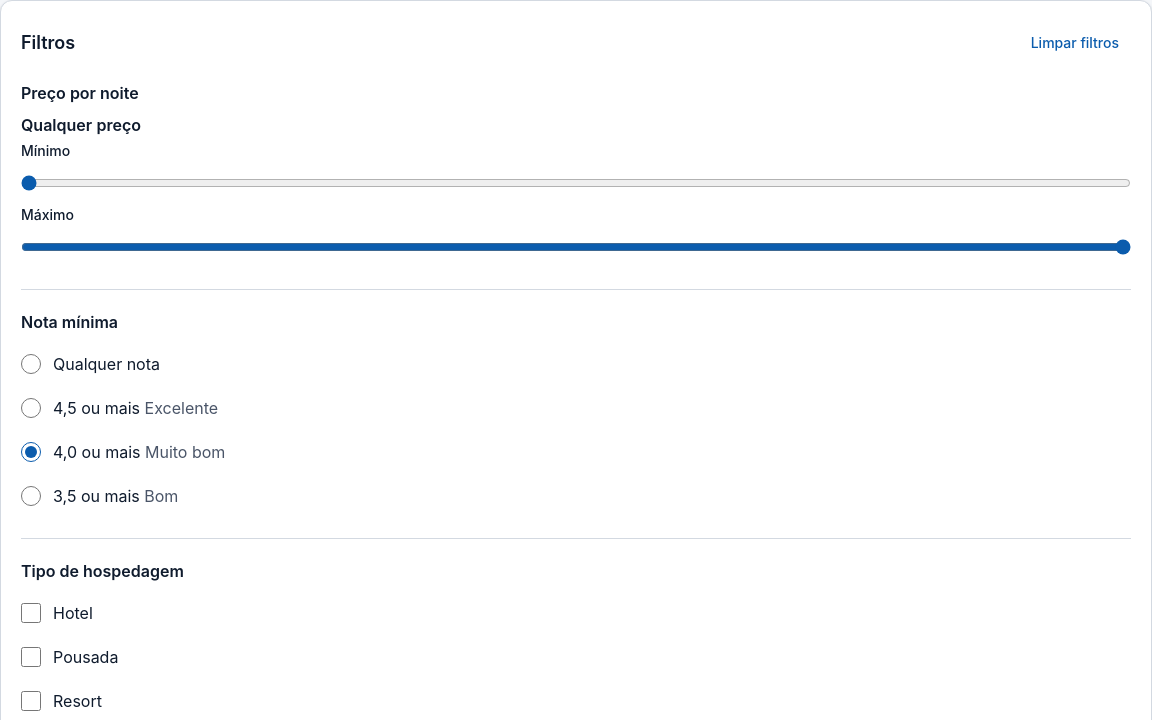
Scenario: FiltersPanel: limpar filtros (critério 16) › limpar durante o debounce do slider não regrava o preço
Set the slider labelled "Mínimo" to "500" at (211, 183), box x1=21 y1=161 x2=1131 y2=205
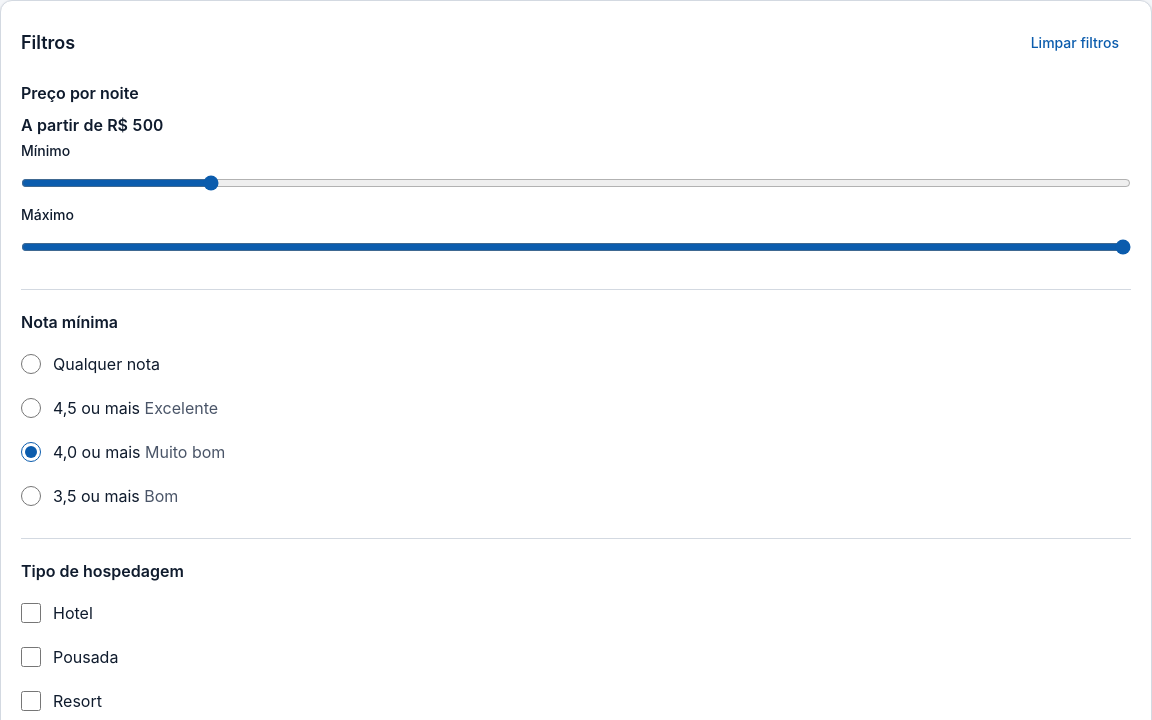
Click the button "Limpar filtros".
click(1075, 43)  # box x1=1019 y1=21 x2=1131 y2=65
Wait 1000 ms
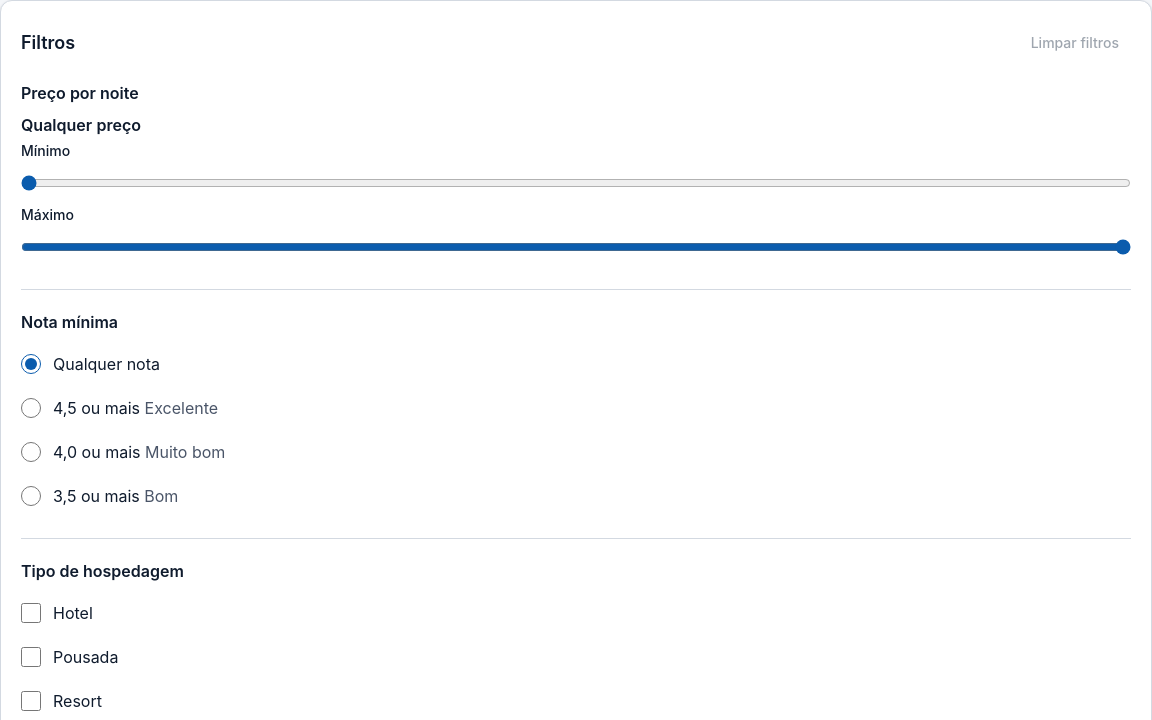
expect the slider labelled "Mínimo" holds "0": met, box x1=21 y1=161 x2=1131 y2=205
